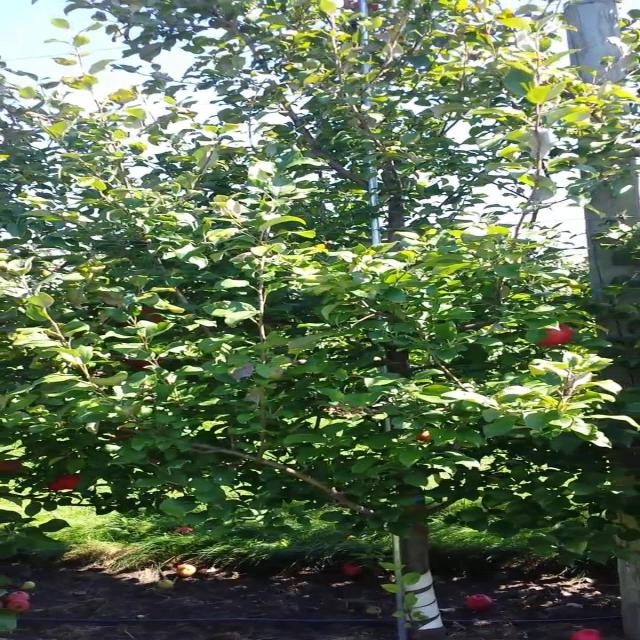apple: (538, 324, 573, 346), (49, 474, 82, 490), (47, 475, 78, 491), (140, 306, 164, 322), (0, 460, 22, 474), (124, 359, 151, 369), (418, 430, 431, 441), (367, 2, 380, 11)
